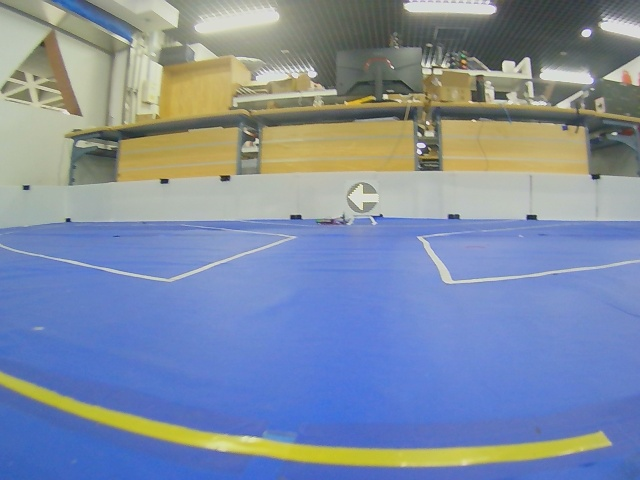left_yellow: (347, 182, 379, 213)
